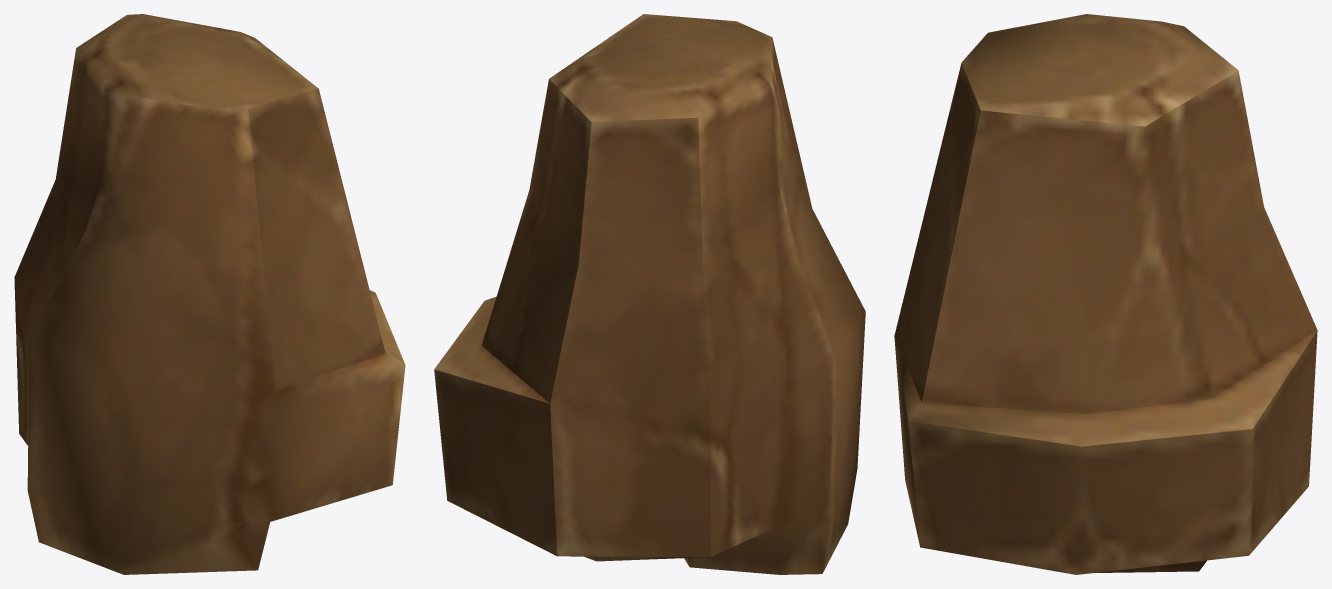
File: shakian_object_dimension_rock02_02.FBX
3 views of the same model, side by side, from view 1: azimuth 30°, elevation 25°; view 2: azimuth 150°, elevation 25°; view 3: azimuth 270°, elevation 25° (orthographic). The views are drawn at different scales.
Visible parts, largest first — view 1: shakian_object_dimension_rock02_02; view 2: shakian_object_dimension_rock02_02; view 3: shakian_object_dimension_rock02_02.
Boxes of the visible parts, x1,y1,x2,y2 form: shakian_object_dimension_rock02_02: (14, 14, 405, 574); shakian_object_dimension_rock02_02: (434, 14, 865, 574); shakian_object_dimension_rock02_02: (894, 14, 1317, 574).
Bounding box in the file's own units: 1.44 × 1.92 × 1.46.
